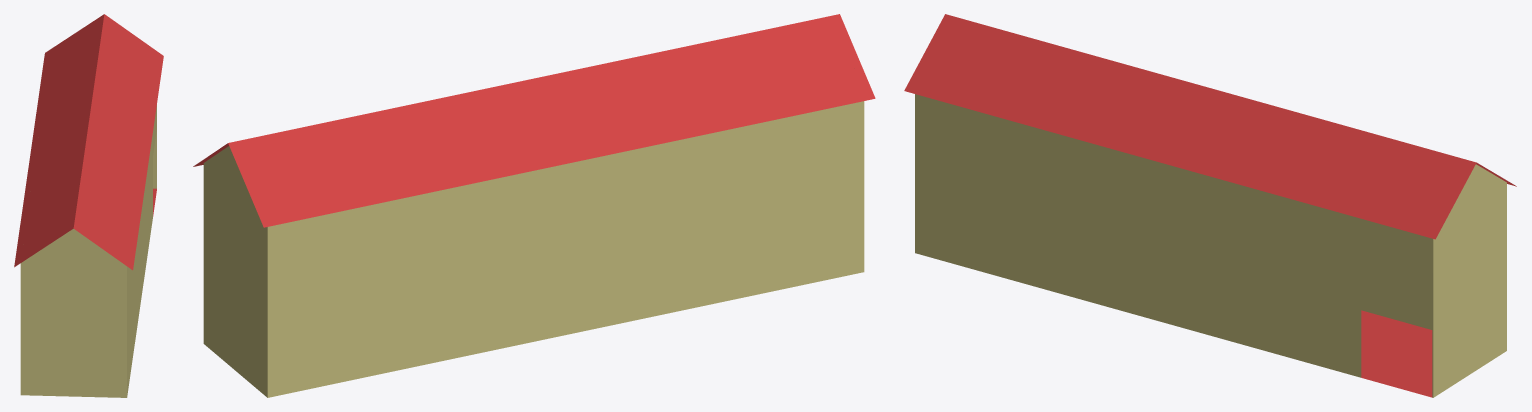
3 views of the same model, side by side, from view 1: azimuth 30°, elevation 25°; view 2: azimuth 150°, elevation 25°; view 3: azimuth 270°, elevation 25° (orthographic). The views are drawn at different scales.
Parts seen in each view (by area): view 1: group_3, group_5, group_4; view 2: group_5, group_3, group_4; view 3: group_5, group_3, group_6.
Boxes of the visible parts, x1,y1,x2,y2 form: group_3: (21, 14, 163, 270); group_5: (20, 105, 156, 397); group_4: (14, 14, 104, 267); group_5: (203, 101, 864, 397); group_3: (233, 14, 863, 216); group_4: (193, 15, 875, 227); group_5: (915, 94, 1506, 397); group_3: (904, 15, 1516, 239); group_6: (1361, 310, 1432, 397).
Bounding box in the file's own units: 29.94 × 38.62 × 14.84.
